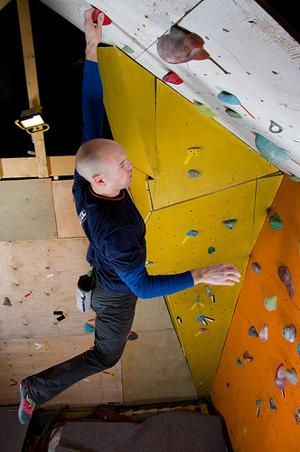person: (16, 5, 243, 424)
